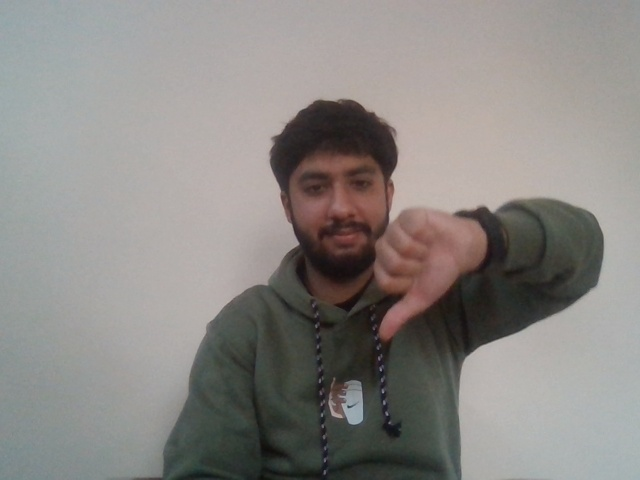No: (362, 203, 451, 334)
